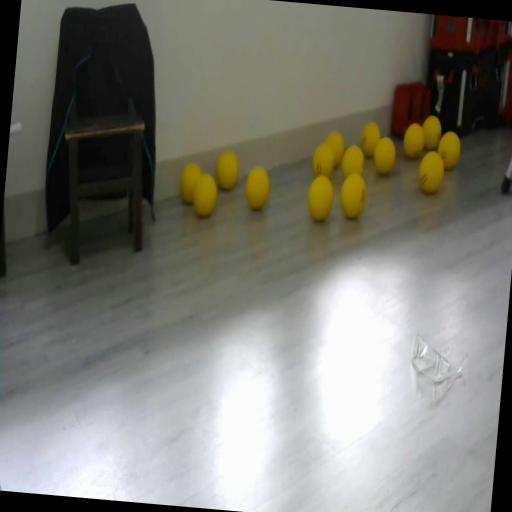FUEL: (305, 173, 336, 223), (337, 170, 368, 220), (243, 164, 272, 210), (417, 150, 446, 194), (178, 162, 203, 204), (371, 136, 397, 176), (436, 130, 462, 170), (215, 150, 240, 190), (340, 142, 366, 180), (402, 122, 426, 160), (358, 120, 382, 158), (323, 130, 346, 168), (420, 114, 442, 151)
